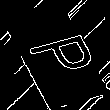P_E: (13, 29, 97, 81)
